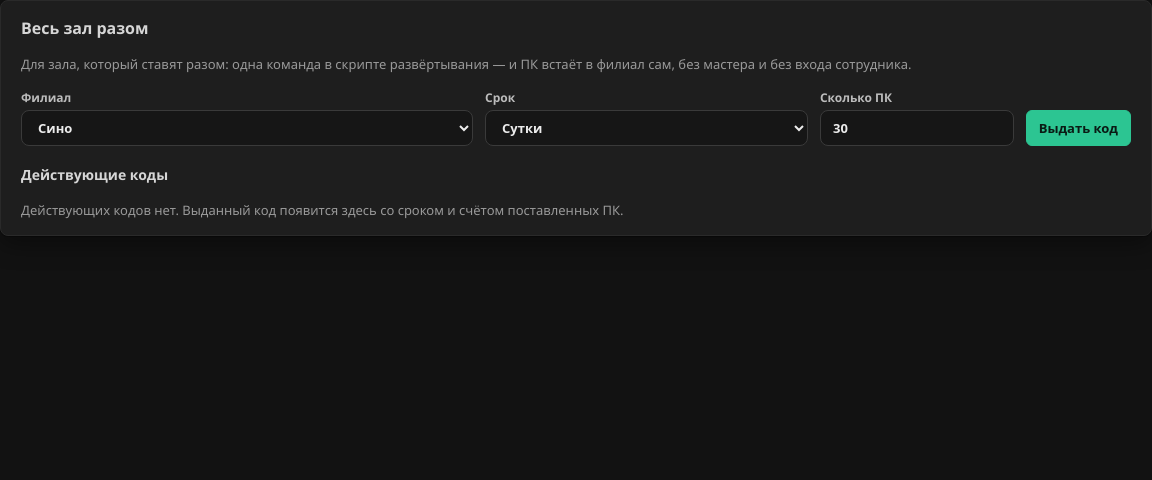
Test: InstallCodesSection › shows the issued code once, with the ready command
Check: the text "Действующих кодов нет." is shown, box [21, 201, 179, 219]
Replace the text in the number field labelled "Сколько ПК" with "12" at (917, 128), box [820, 110, 1014, 146]
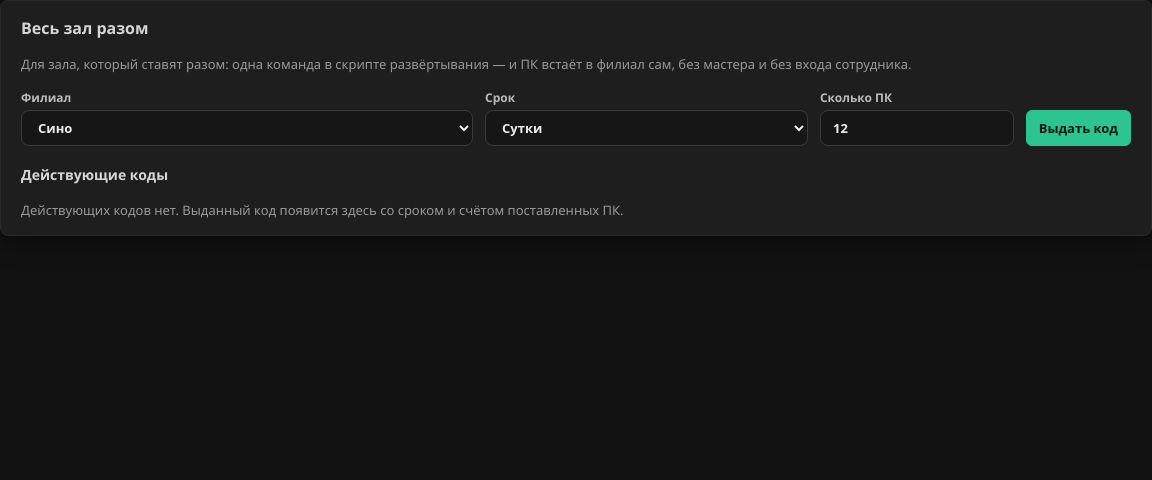
Click the button "Выдать код" at (1078, 128), box [1026, 110, 1131, 146]
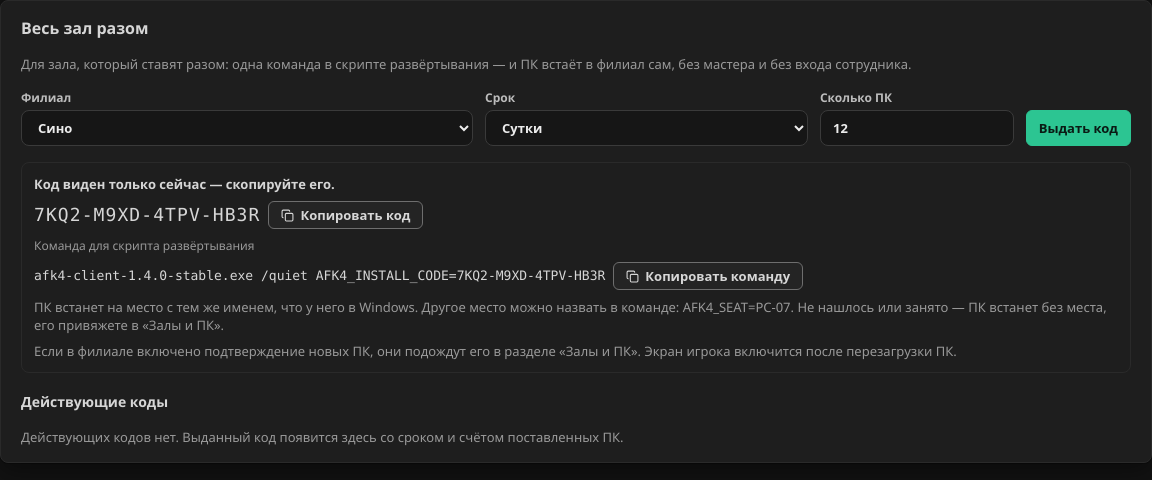
Check: the text "7KQ2-M9XD-4TPV-HB3R" is shown, box [34, 204, 260, 226]
Check: the text "afk4-client-1.4.0-stable.exe /quiet AFK4_INSTALL_CODE=7KQ2-M9XD-4TPV-HB3R" is shown, box [34, 268, 605, 284]
